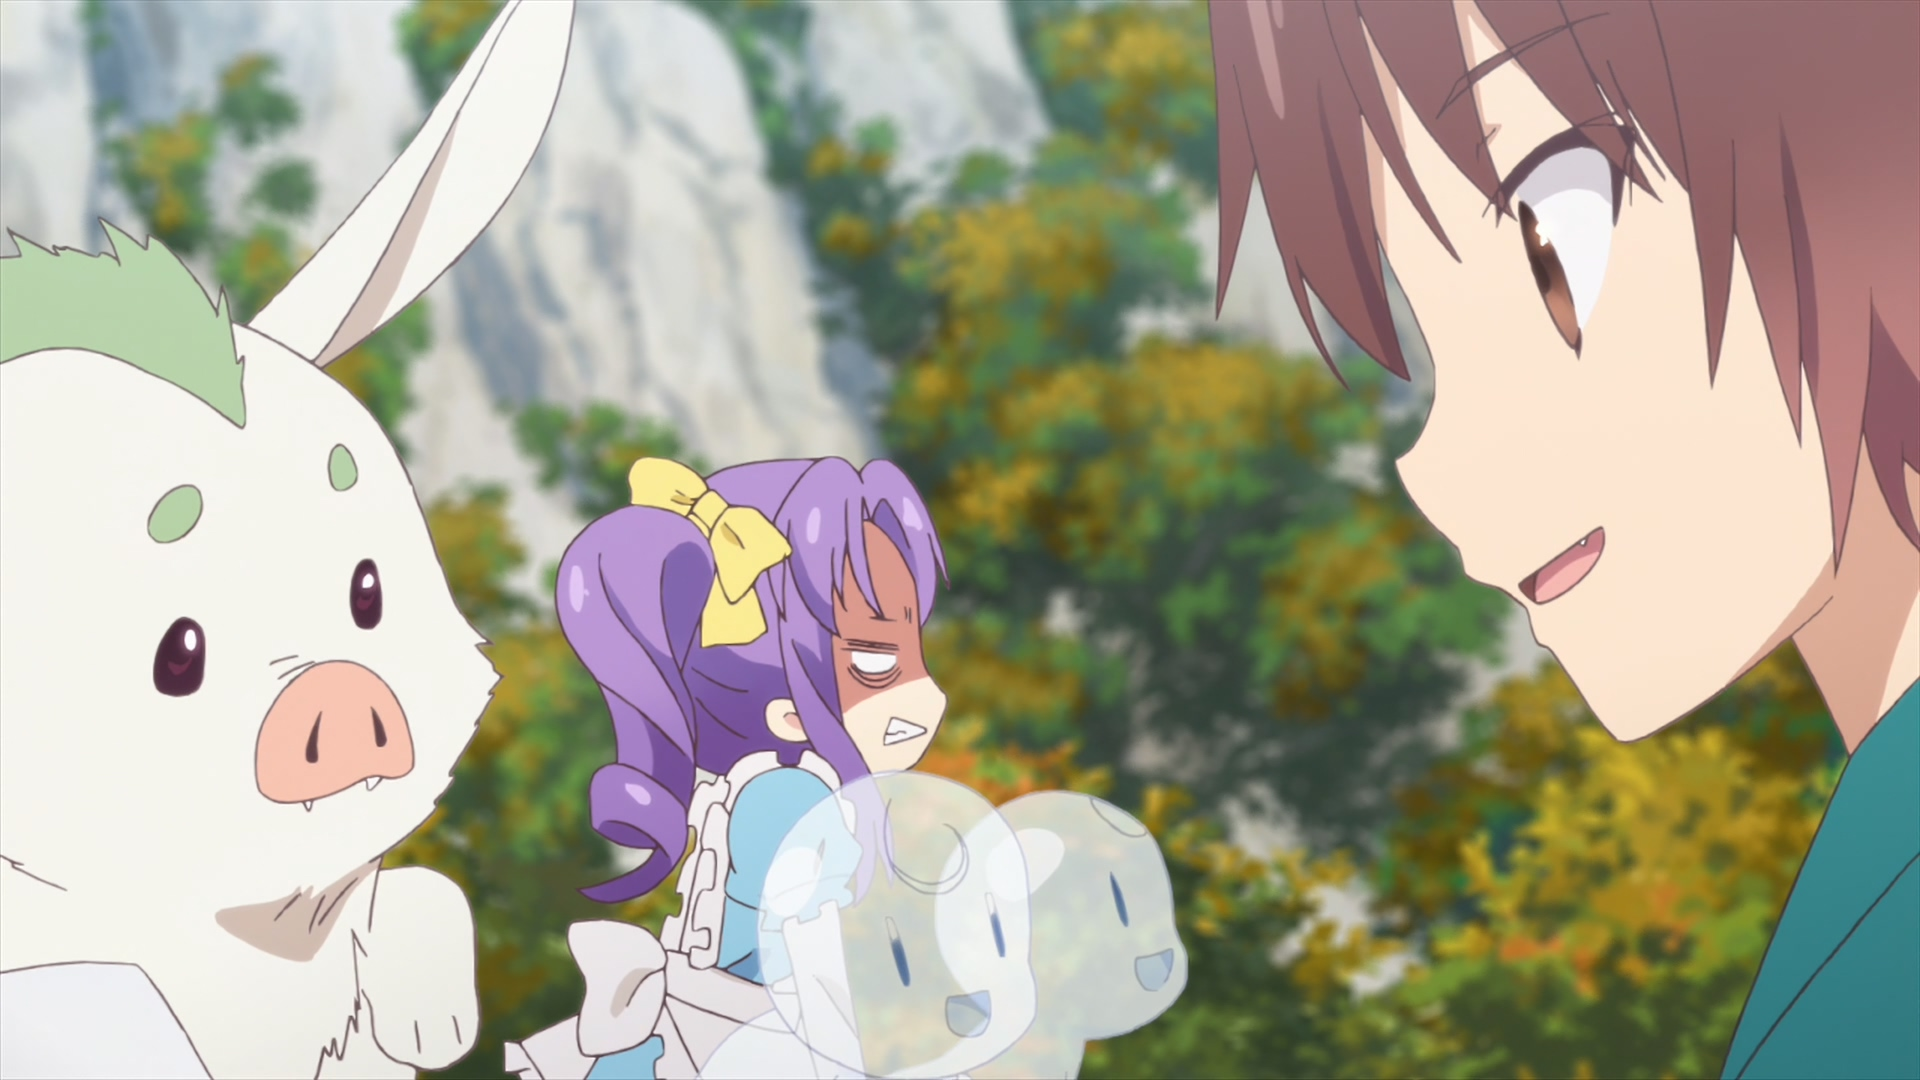枣: (1207, 1, 1920, 1080)
瓜之介: (1, 1, 576, 1080)
阿菊: (502, 456, 948, 1080)
